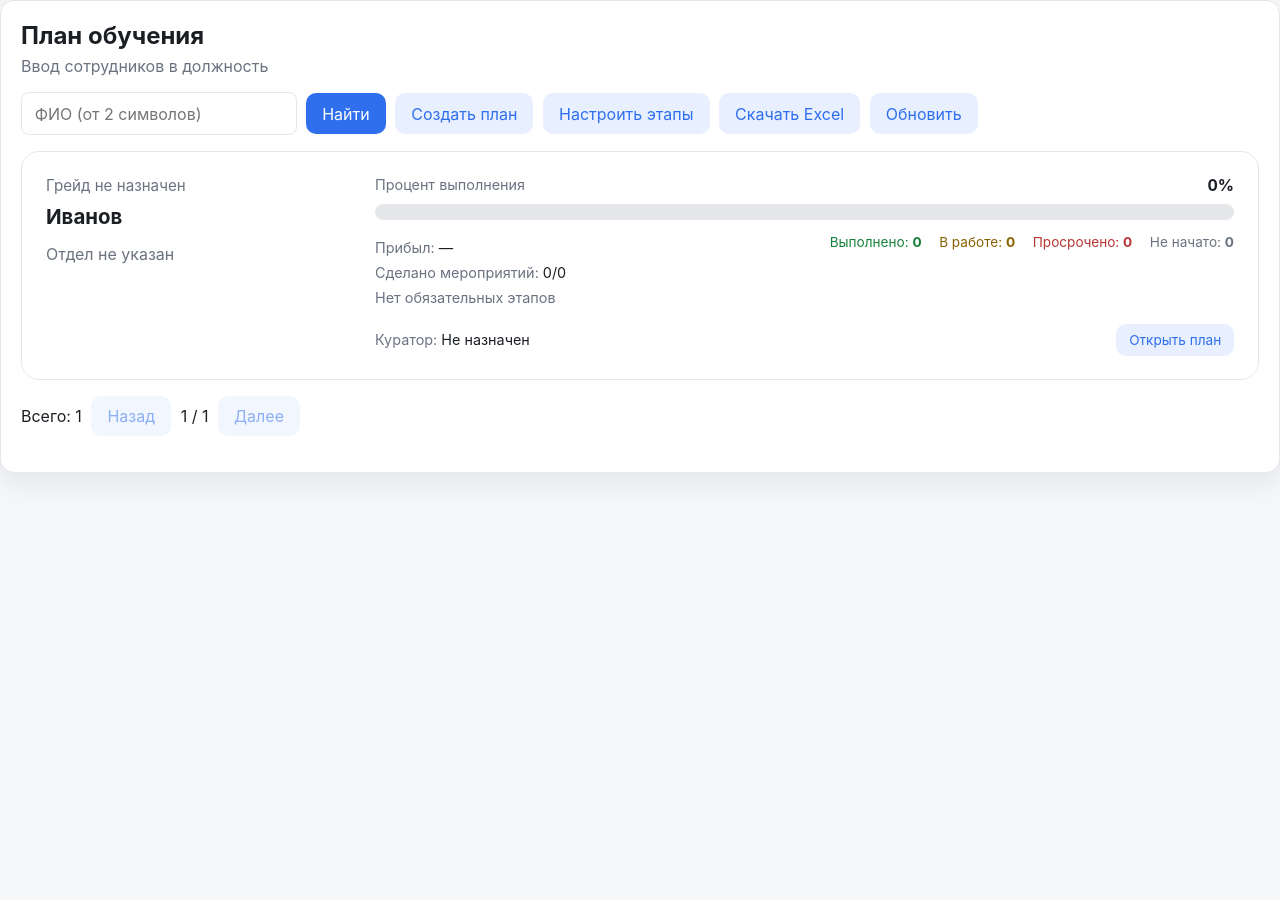
Scenario: New onboarding states and clearing › shows exemptions without completion or overdue styling
Click the button with class "expand-button" at (1175, 340), box [1116,324,1234,356]
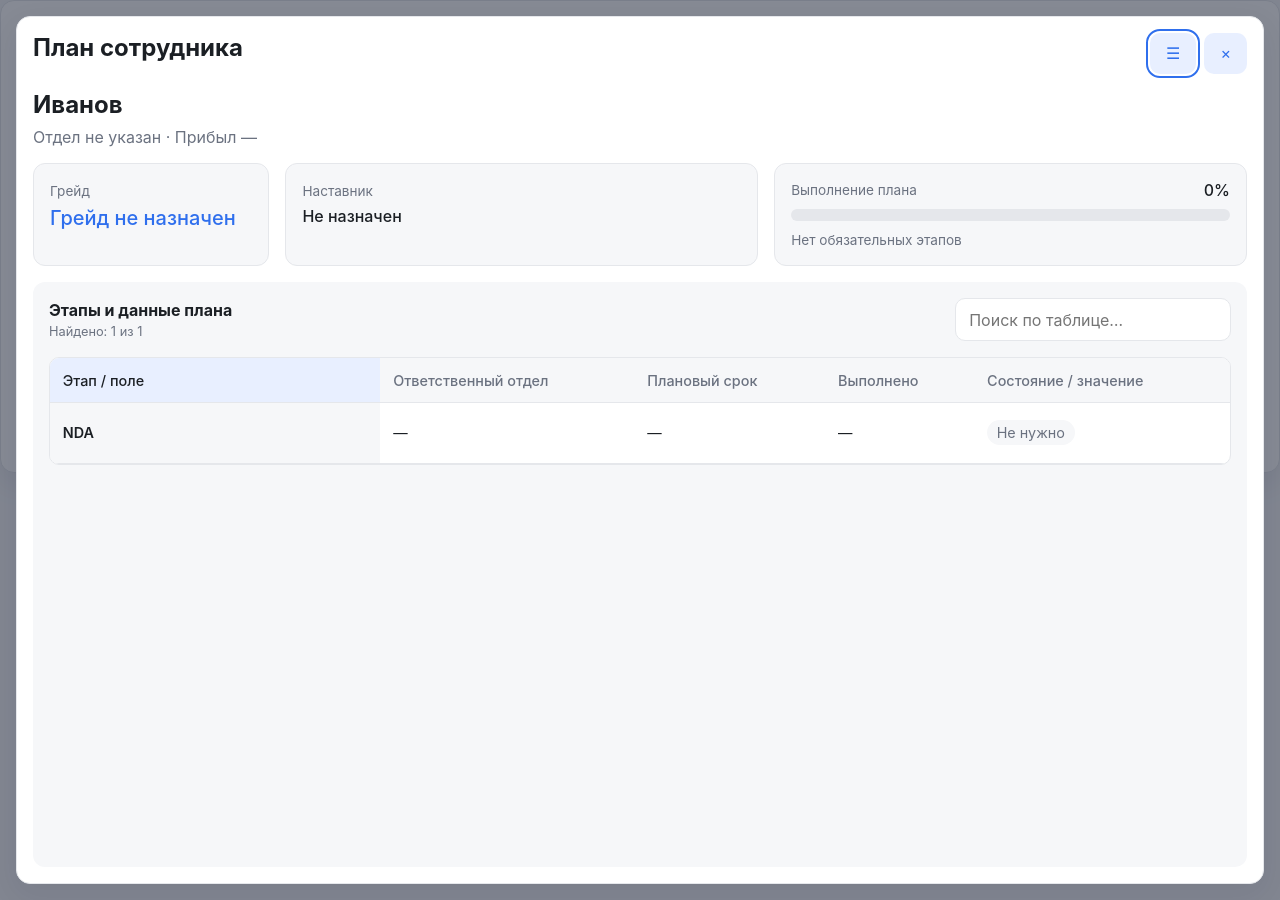
Now the cell with class "not-required" reads "Не нужно", box [987,417,1217,449]
